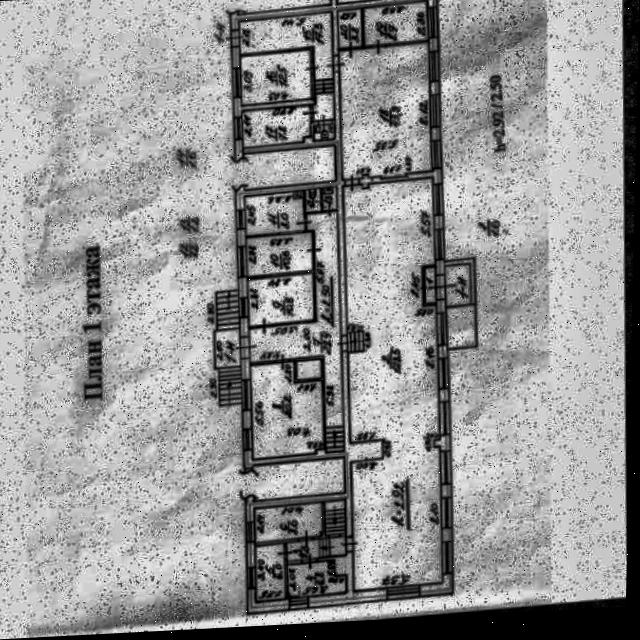room: (346, 180, 443, 594), (249, 213, 344, 456), (342, 45, 435, 182), (243, 14, 337, 124), (252, 363, 324, 461), (240, 52, 319, 106), (246, 275, 319, 328), (246, 233, 317, 278), (364, 4, 434, 48), (243, 107, 316, 149), (253, 504, 326, 545), (245, 193, 309, 237), (285, 561, 347, 600), (256, 545, 283, 603), (286, 539, 347, 562), (447, 266, 472, 309), (217, 330, 241, 369), (342, 12, 364, 51), (325, 502, 346, 537), (296, 362, 323, 381), (315, 126, 339, 142), (427, 271, 437, 306), (308, 191, 323, 214), (326, 189, 338, 212)
